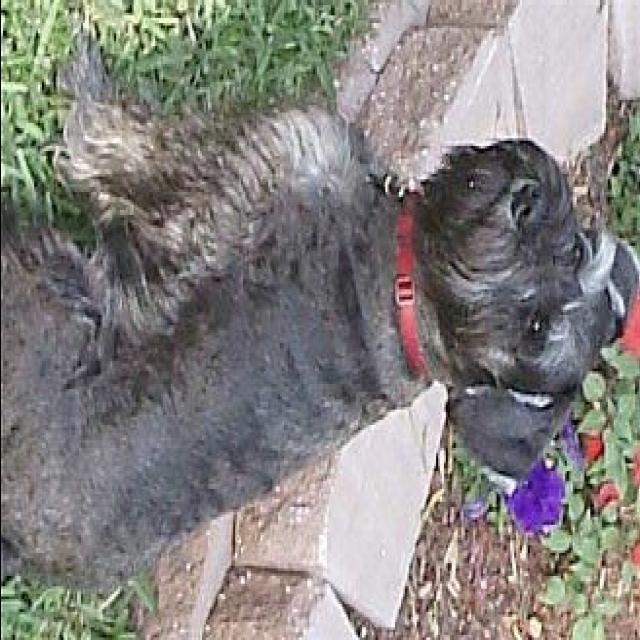standard_schnauzer: (2, 36, 640, 599)
